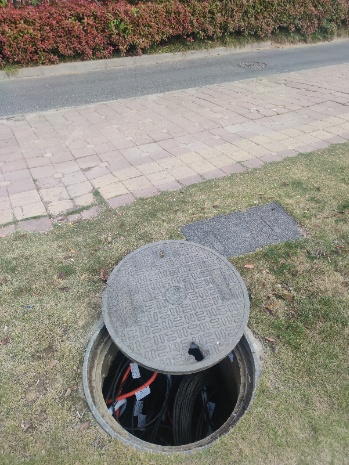well: (82, 237, 260, 453)
